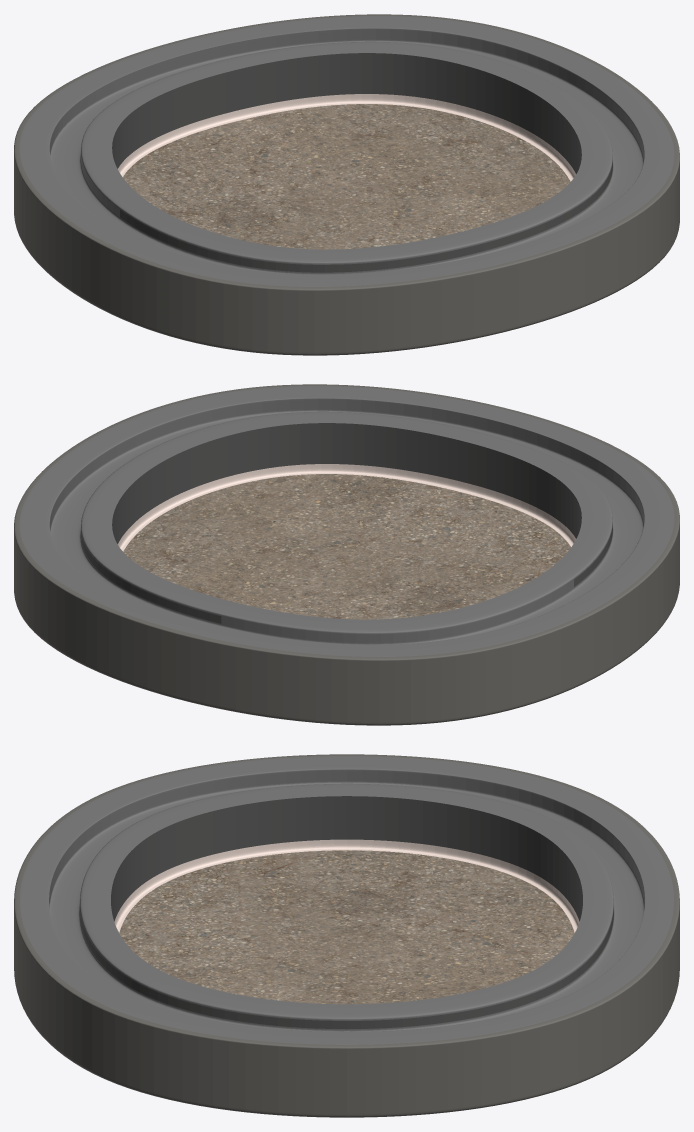
File: BattlerArena-Scalled.fbx
3 views of the same model, one above another, from view 1: azimuth 30°, elevation 25°; view 2: azimuth 150°, elevation 25°; view 3: azimuth 270°, elevation 25° (orthographic). The views are drawn at different scales.
Parts seen in each view (by area): view 1: Arena Backup.001; view 2: Arena Backup.001; view 3: Arena Backup.001.
Part boxes in pixels (x1,y1,x2,y2): Arena Backup.001: (14, 14, 679, 355); Arena Backup.001: (14, 384, 679, 725); Arena Backup.001: (14, 754, 679, 1117).
Size of the model in its own units: 100 by 11.69 by 96.14.
Materials: 6 (4 with a texture image).
